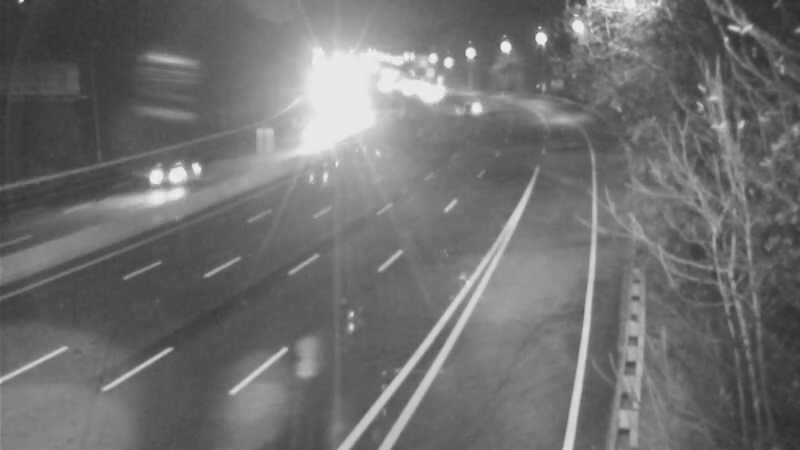vehicle: (132, 130, 212, 210), (442, 78, 492, 128), (294, 106, 344, 156)
